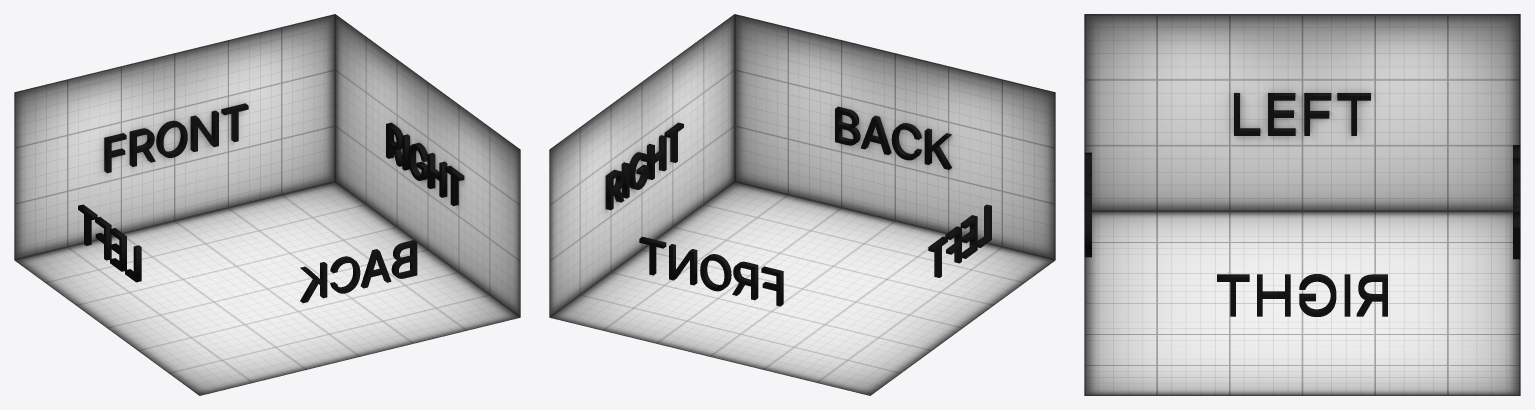
Rendered from room.glb.
3 views of the same model, side by side, from view 1: azimuth 30°, elevation 25°; view 2: azimuth 150°, elevation 25°; view 3: azimuth 270°, elevation 25° (orthographic). The views are drawn at different scales.
Parts seen in each view (by area): view 1: Room interior, FRONT • Inter • 2 ft high • 4 in relief, BACK • Inter • 2 ft high • 4 in relief, RIGHT • Inter • 2 ft high • 4 in relief, LEFT • Inter • 2 ft high • 4 in relief; view 2: Room interior, FRONT • Inter • 2 ft high • 4 in relief, BACK • Inter • 2 ft high • 4 in relief, RIGHT • Inter • 2 ft high • 4 in relief, LEFT • Inter • 2 ft high • 4 in relief; view 3: Room interior, RIGHT • Inter • 2 ft high • 4 in relief, LEFT • Inter • 2 ft high • 4 in relief, FRONT • Inter • 2 ft high • 4 in relief, BACK • Inter • 2 ft high • 4 in relief.
Boxes of the visible parts, x1,y1,x2,y2 form: Room interior: (14, 14, 520, 395); FRONT • Inter • 2 ft high • 4 in relief: (104, 103, 248, 173); BACK • Inter • 2 ft high • 4 in relief: (300, 240, 417, 303); RIGHT • Inter • 2 ft high • 4 in relief: (386, 122, 464, 205); LEFT • Inter • 2 ft high • 4 in relief: (78, 204, 141, 282); Room interior: (549, 14, 1055, 395); FRONT • Inter • 2 ft high • 4 in relief: (639, 236, 783, 306); BACK • Inter • 2 ft high • 4 in relief: (835, 106, 951, 169); RIGHT • Inter • 2 ft high • 4 in relief: (605, 122, 683, 210); LEFT • Inter • 2 ft high • 4 in relief: (928, 204, 991, 277); Room interior: (1084, 14, 1520, 395); RIGHT • Inter • 2 ft high • 4 in relief: (1217, 274, 1387, 316); LEFT • Inter • 2 ft high • 4 in relief: (1234, 93, 1370, 135); FRONT • Inter • 2 ft high • 4 in relief: (1513, 145, 1520, 259); BACK • Inter • 2 ft high • 4 in relief: (1084, 152, 1091, 257).
Size of the model in its own units: 6 by 3 by 6.
Materials: 2 (1 with a texture image).
